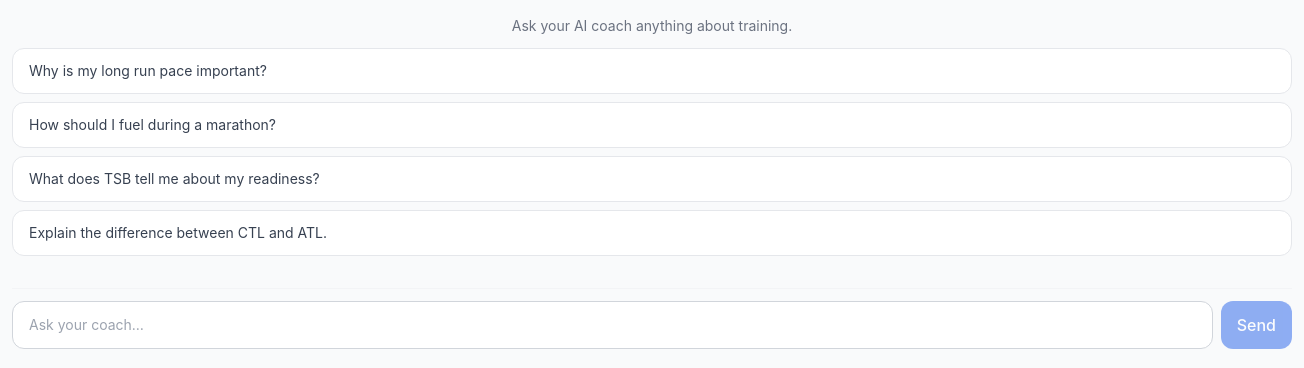
Test: shows rate limit message on 429
In the field with placeholder "Ask your coach…": (612, 325) left=12, top=301, right=1213, bottom=349, type "Hello"
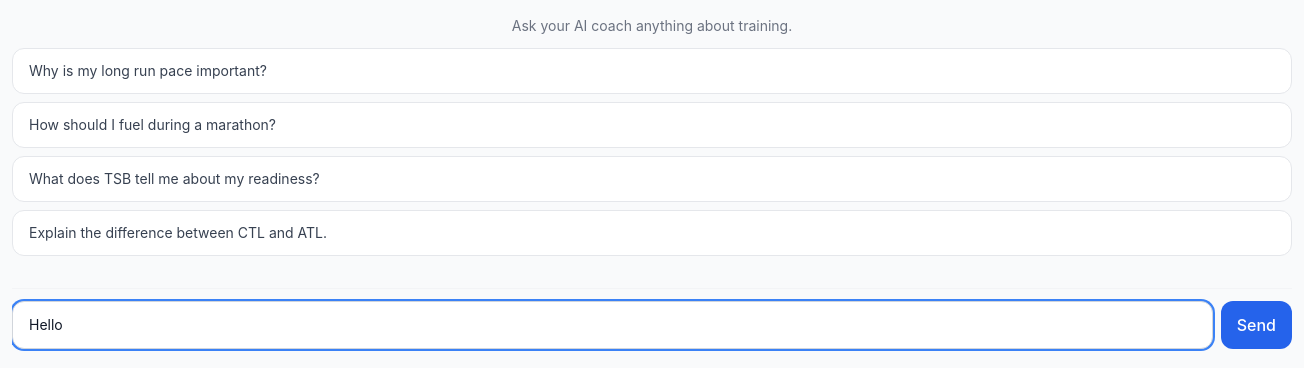
Click the button "Send": (1256, 325) left=1221, top=301, right=1292, bottom=349
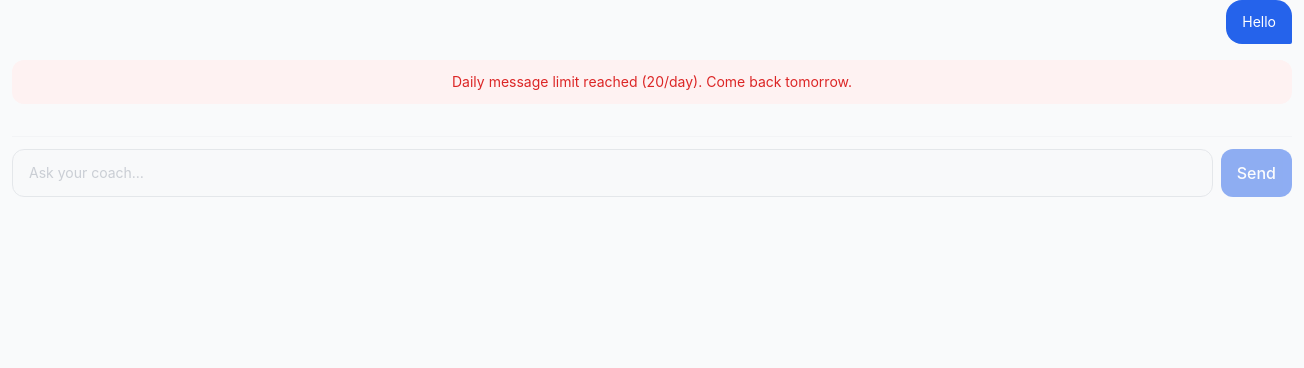
Now the text "Daily message limit reached (20/day). Come back tomorrow." is shown, box left=12, top=60, right=1292, bottom=104
